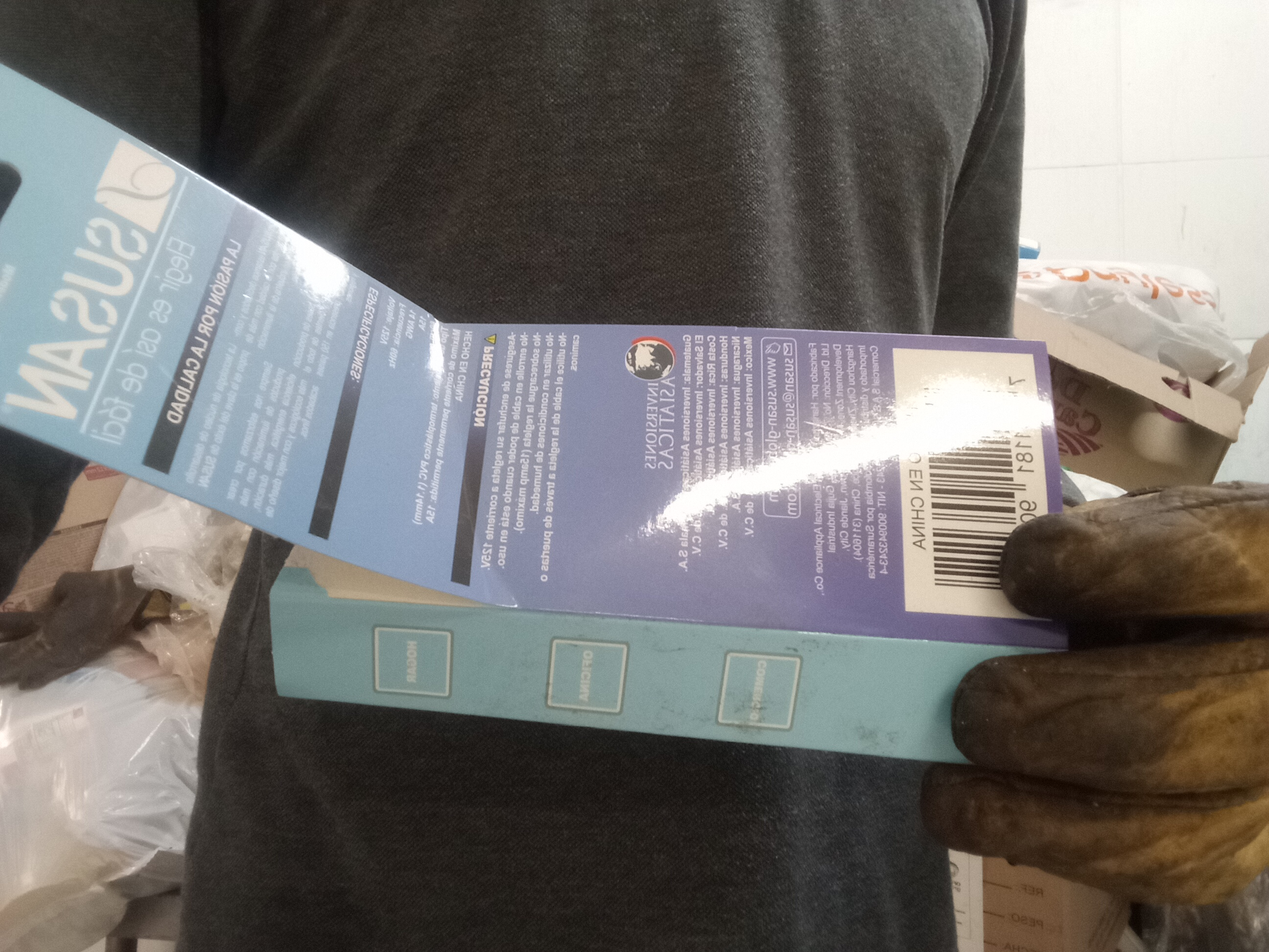Carton: (0, 66, 1065, 777)
